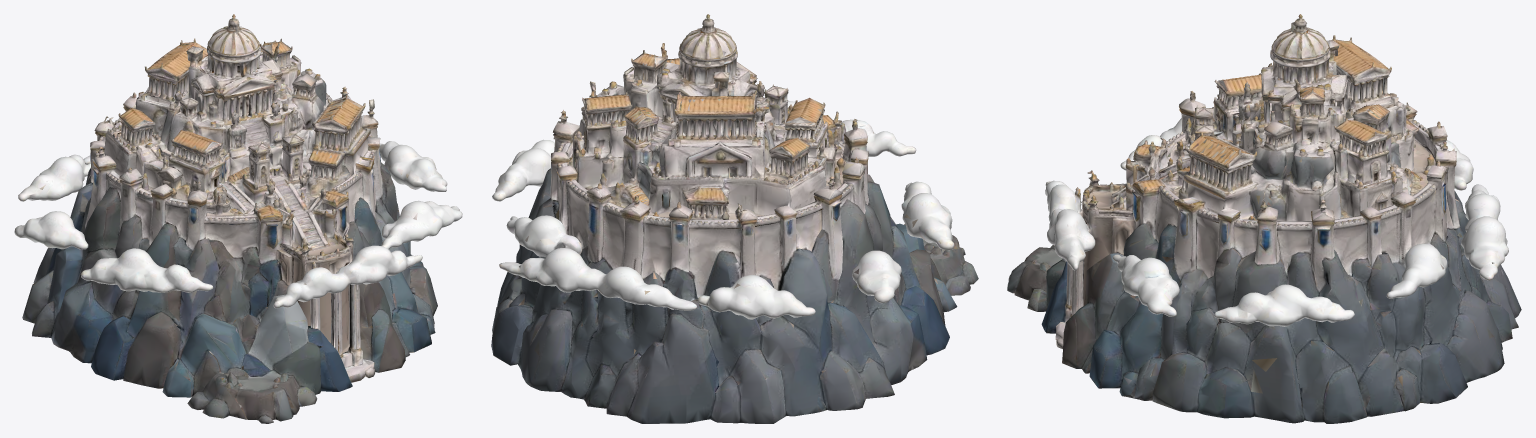
File: Citadel_of_the_Clouds.glb
3 renders of one model, left to right at view 1: azimuth 30°, elevation 25°; view 2: azimuth 150°, elevation 25°; view 3: azimuth 270°, elevation 25°, orthographic. The views are drawn at different scales.
Visible parts, largest first — view 1: Citadel_of_the_Clouds; view 2: Citadel_of_the_Clouds; view 3: Citadel_of_the_Clouds.
Part boxes in pixels (x1,y1,x2,y2): Citadel_of_the_Clouds: [14, 14, 462, 423]; Citadel_of_the_Clouds: [491, 14, 978, 423]; Citadel_of_the_Clouds: [1007, 14, 1521, 423].
Bounding box in the file's own units: 1.79 × 1.3 × 1.91.
Materials: 1 (1 with a texture image).
